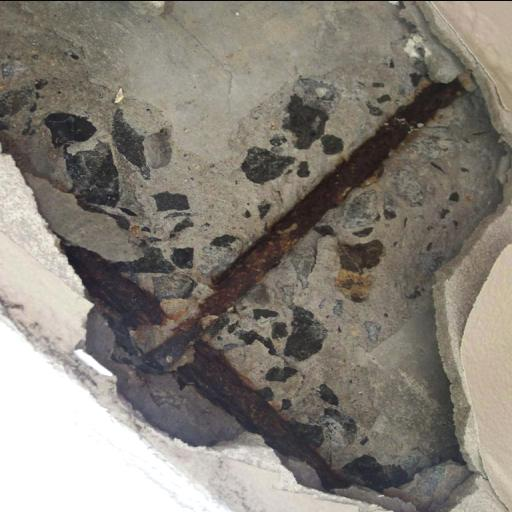spalling: (5, 0, 512, 512)
